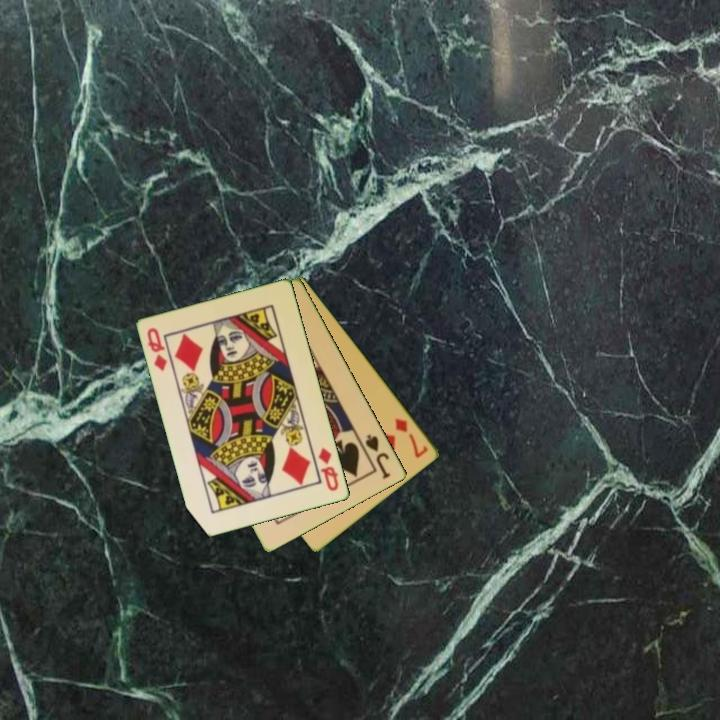7d: (392, 414, 431, 461)
Js: (362, 431, 394, 482)
Qd: (315, 444, 342, 494), (144, 324, 171, 374)
